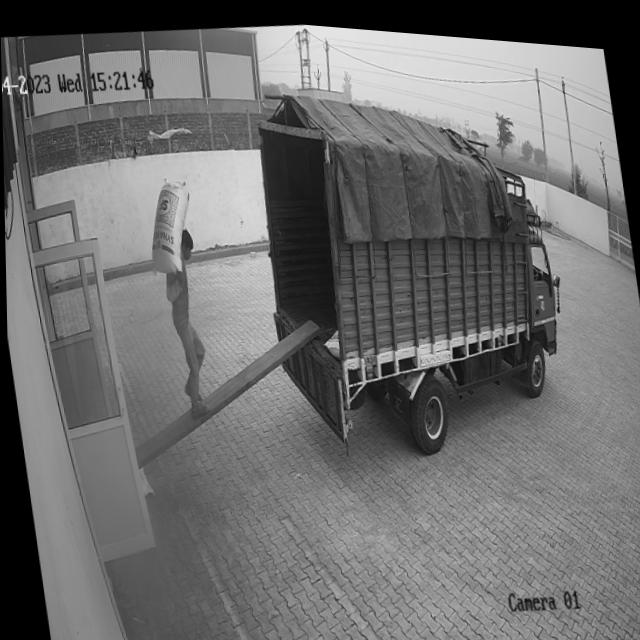sack: (139, 171, 199, 275)
